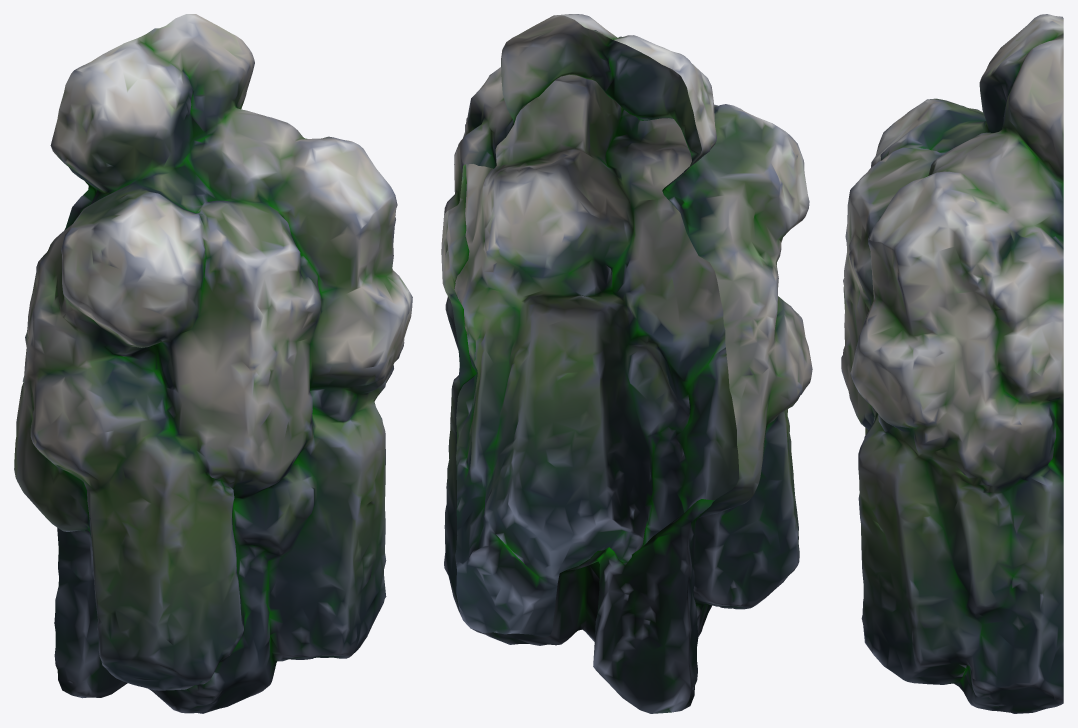
The model's file is M_Cliff_Rock_T6.fbx.
The picture shows the model from 3 angles, left to right: view 1: azimuth 30°, elevation 25°; view 2: azimuth 150°, elevation 25°; view 3: azimuth 270°, elevation 25°; orthographic projection. The views are drawn at different scales.
Parts seen in each view (by area): view 1: M_Cliff_Rock_T6; view 2: M_Cliff_Rock_T6; view 3: M_Cliff_Rock_T6.
Part boxes in pixels (bbox=[...]): M_Cliff_Rock_T6: bbox=[14, 14, 412, 713]; M_Cliff_Rock_T6: bbox=[441, 14, 812, 713]; M_Cliff_Rock_T6: bbox=[841, 14, 1063, 713].
Bounding box in the file's own units: 12.03 × 22.48 × 6.91.
